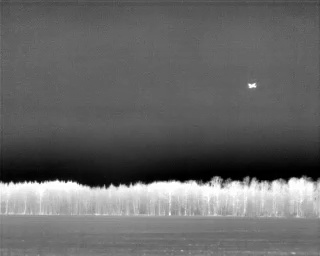DRONE: (244, 77, 262, 94)
